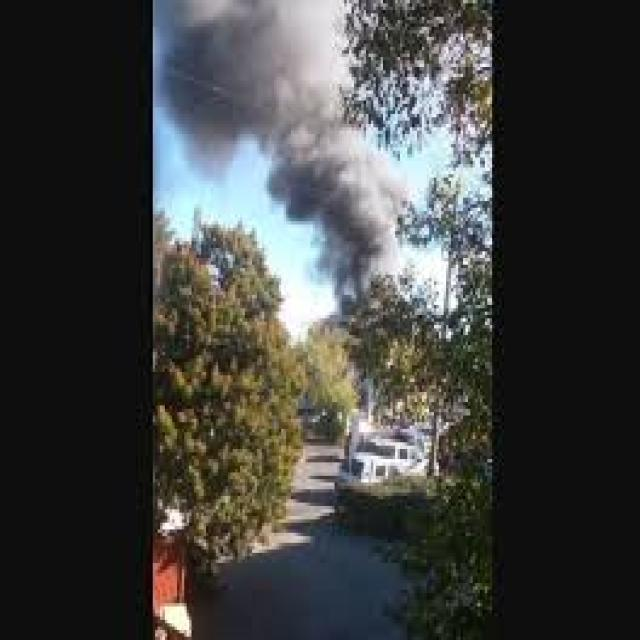Smoke: (154, 0, 412, 293)
